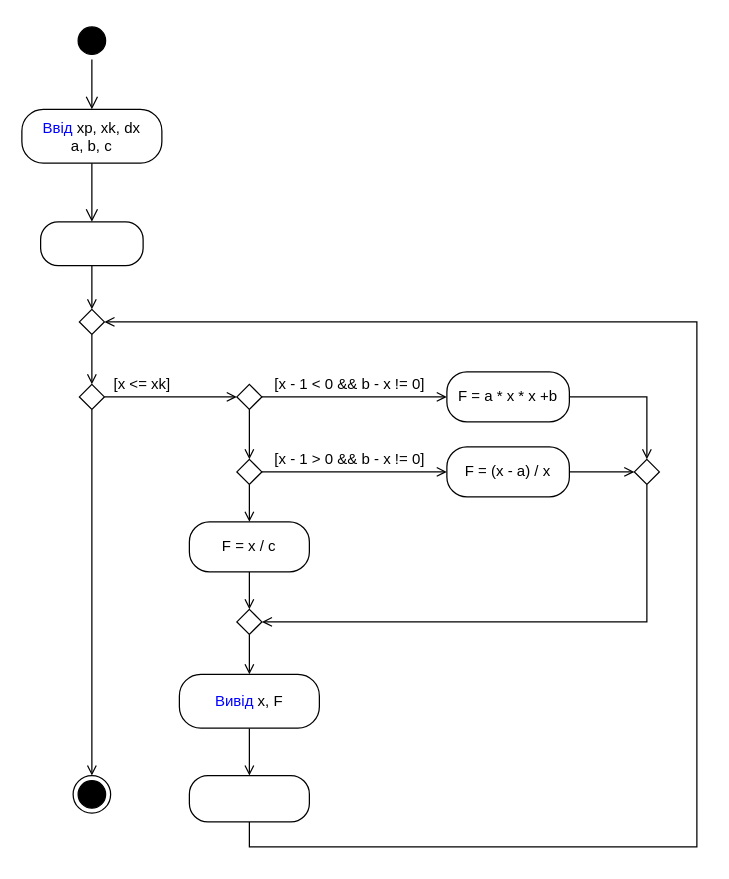
This 729x879 diagram has some shape labels left out. The centre of each missing label's shape, as x and y in pixels:
"x += dx" belongs at point 248,798.
"x = xp" belongs at point 91,243.
